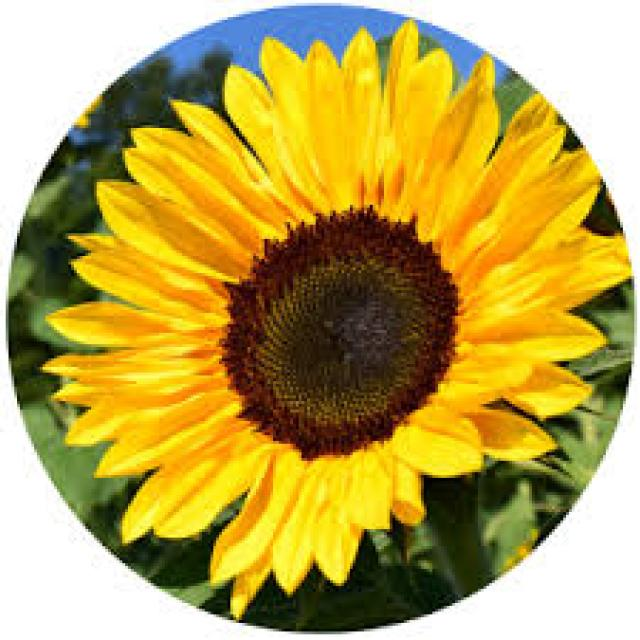sunflower: (35, 0, 640, 624)
